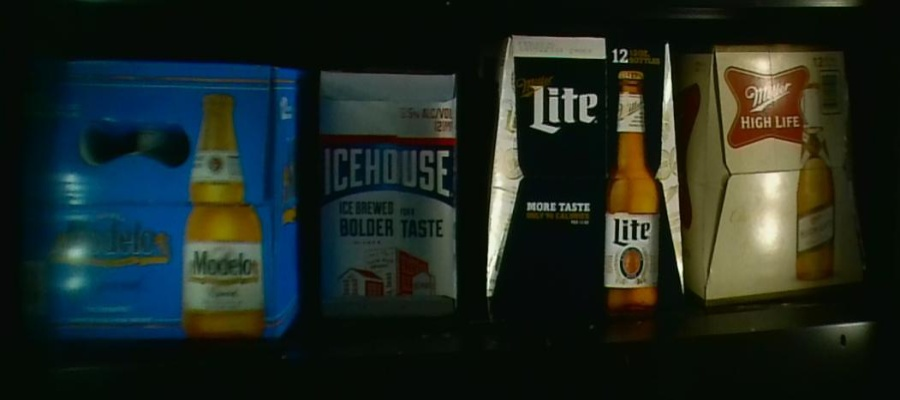bottle: (16, 62, 301, 344), (486, 31, 683, 314), (686, 41, 867, 310), (315, 64, 458, 324)
